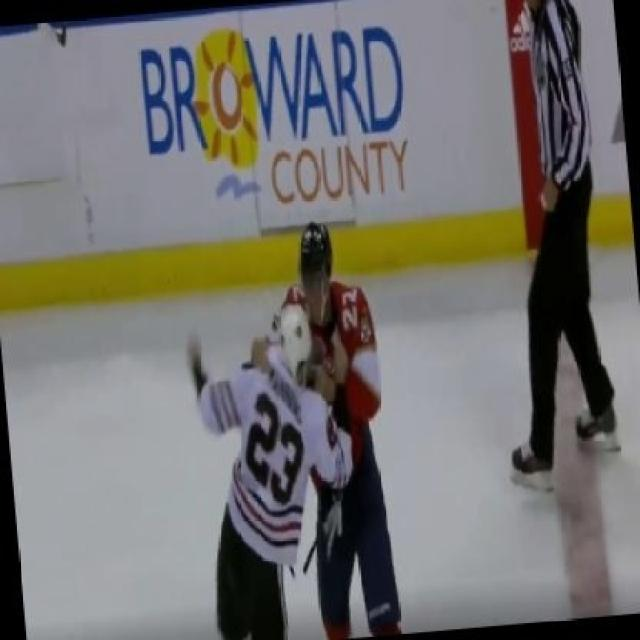fight: (189, 217, 417, 638)
non-fight: (446, 0, 638, 495)
